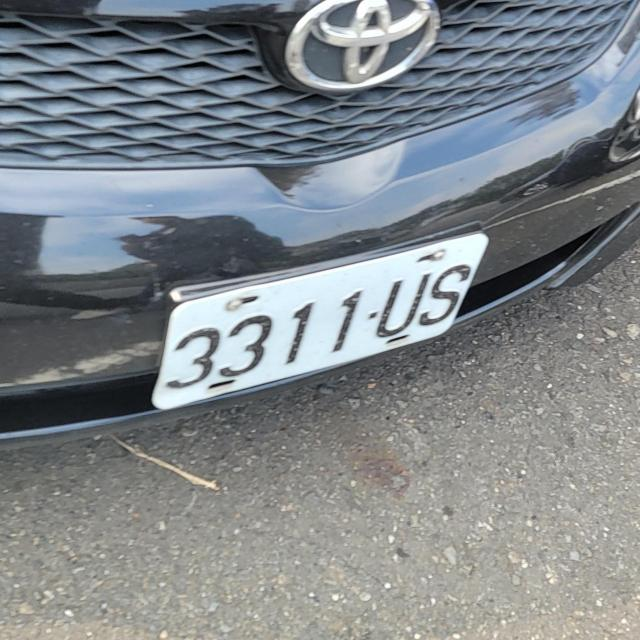W: (139, 221, 490, 415)
